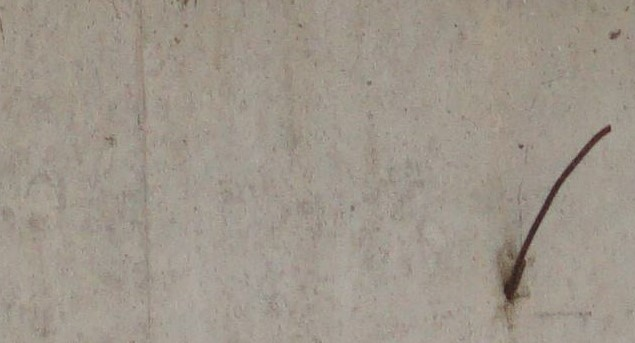Exposed reinforcement: (502, 124, 613, 300)
